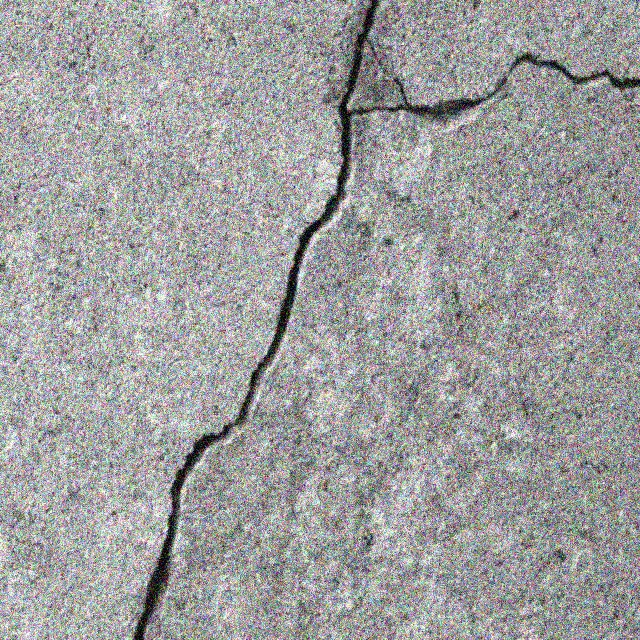SurfaceCrack: (98, 3, 422, 640)
